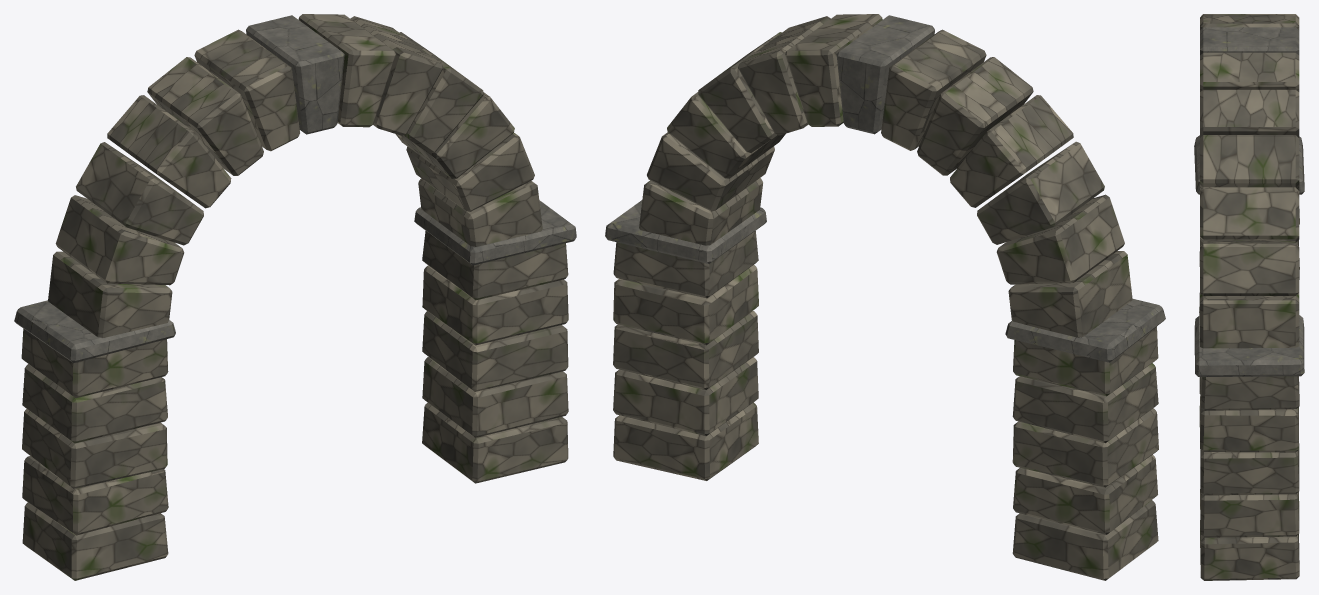
Rendered from RuinArch.fbx.
The picture shows the model from 3 angles, left to right: view 1: azimuth 30°, elevation 25°; view 2: azimuth 150°, elevation 25°; view 3: azimuth 270°, elevation 25°; orthographic projection. The views are drawn at different scales.
Parts seen in each view (by area): view 1: RuinArch; view 2: RuinArch; view 3: RuinArch.
Boxes of the visible parts, x1,y1,x2,y2 form: RuinArch: [14, 14, 576, 580]; RuinArch: [605, 14, 1165, 580]; RuinArch: [1194, 14, 1304, 580].
Size of the model in its own units: 604 by 529 by 123.
